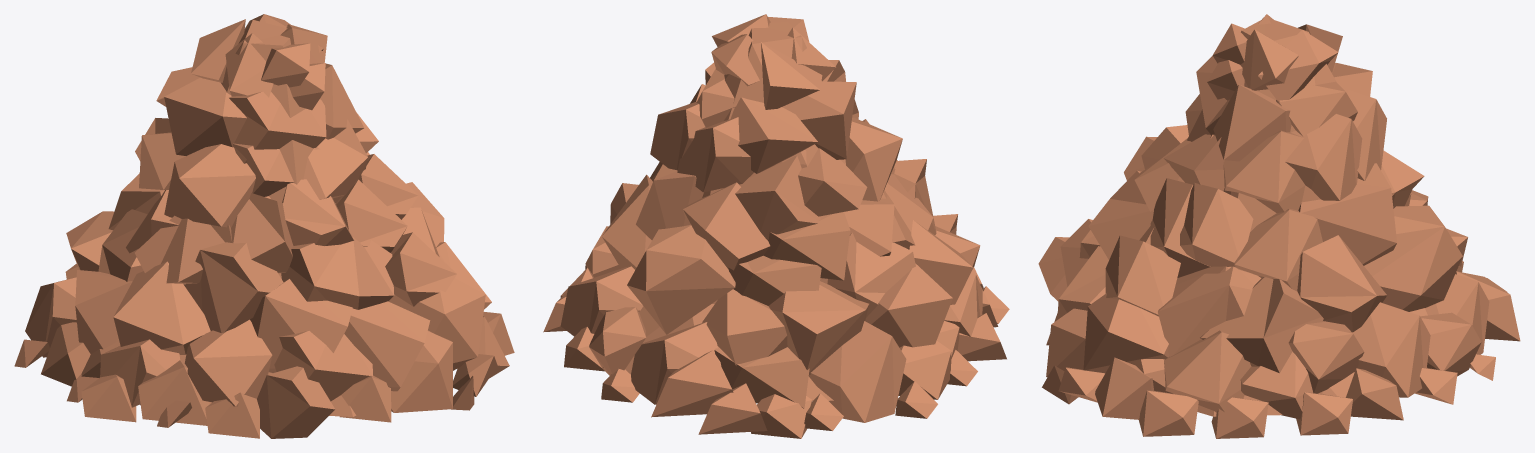
The model's file is far_mountain_simplified.fbx.
3 renders of one model, left to right at view 1: azimuth 30°, elevation 25°; view 2: azimuth 150°, elevation 25°; view 3: azimuth 270°, elevation 25°, orthographic. The views are drawn at different scales.
Parts seen in each view (by area): view 1: Cylinder; view 2: Cylinder; view 3: Cylinder.
Part boxes in pixels (box(x1,y1,x2,y2)): Cylinder: box(14, 14, 514, 438); Cylinder: box(543, 14, 1009, 438); Cylinder: box(1038, 14, 1520, 438).
Size of the model in its own units: 816 by 654 by 849.
